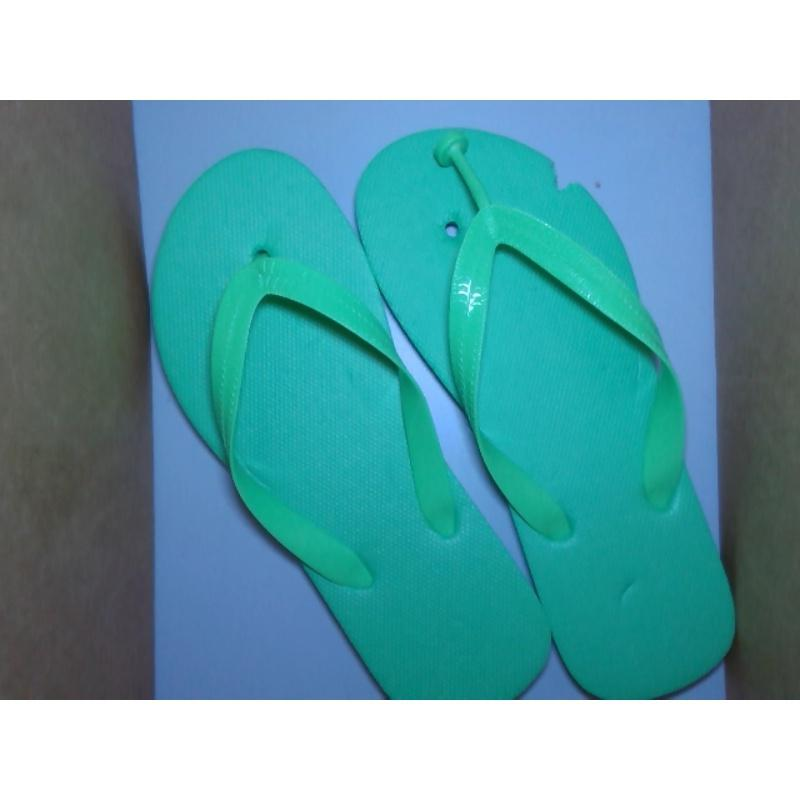chipped: (537, 148, 599, 208)
detached: (423, 125, 481, 195)
